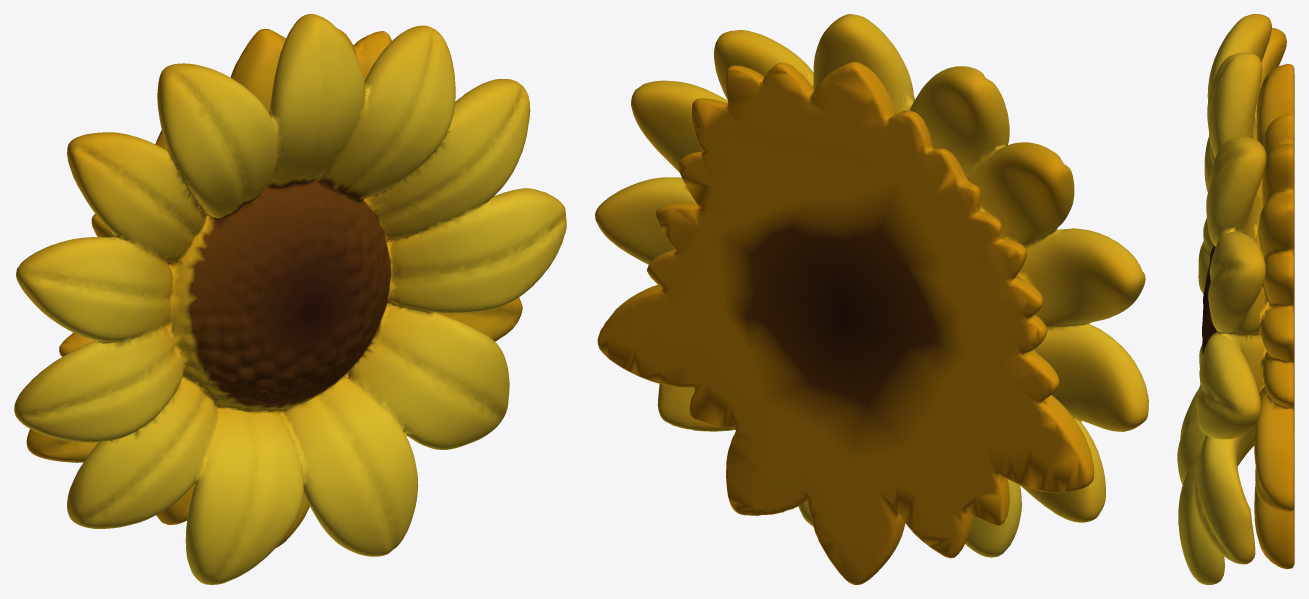
File: sunflower.glb
The picture shows the model from 3 angles, left to right: view 1: azimuth 30°, elevation 25°; view 2: azimuth 150°, elevation 25°; view 3: azimuth 270°, elevation 25°; orthographic projection. The views are drawn at different scales.
Visible parts, largest first — view 1: sunflower; view 2: sunflower; view 3: sunflower.
Boxes of the visible parts, box(x1,y1,x2,y2) form: sunflower: box(14, 14, 566, 584); sunflower: box(595, 14, 1148, 584); sunflower: box(1177, 14, 1294, 584).
Size of the model in its own units: 1 by 0.9487 by 0.1958.
